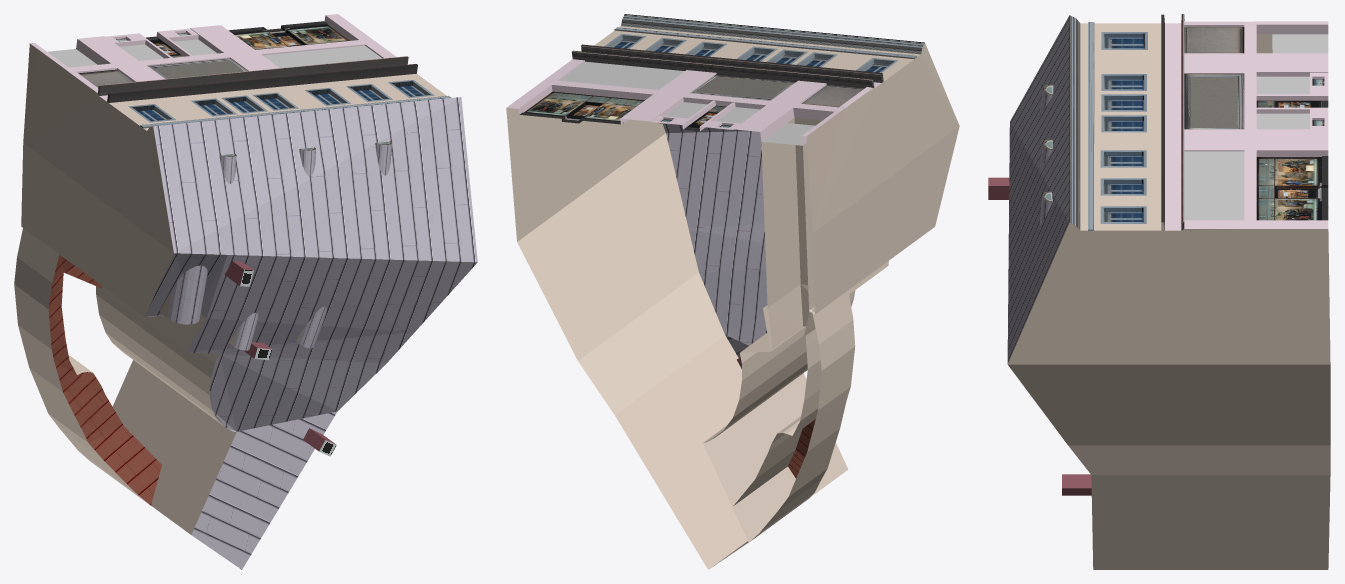
The model's file is Viru10.obj.
3 views of the same model, side by side, from view 1: azimuth 30°, elevation 25°; view 2: azimuth 150°, elevation 25°; view 3: azimuth 270°, elevation 25° (orthographic). The views are drawn at different scales.
Parts seen in each view (by area): view 1: polySurface3; view 2: polySurface3; view 3: polySurface3.
Part boxes in pixels (box(x1,y1,x2,y2)): polySurface3: box(14, 14, 477, 569); polySurface3: box(506, 14, 959, 569); polySurface3: box(988, 14, 1330, 569).
Size of the model in its own units: 19.98 by 28.05 by 17.24.
